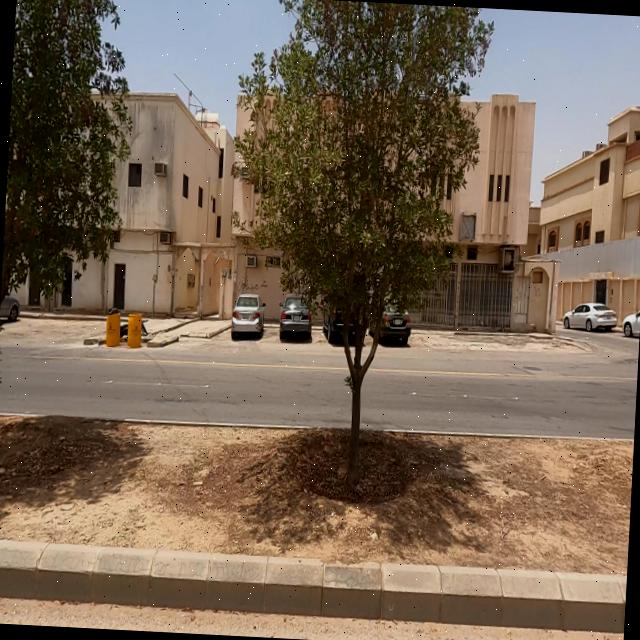Graffiti: (245, 275, 268, 294), (236, 280, 242, 294)
